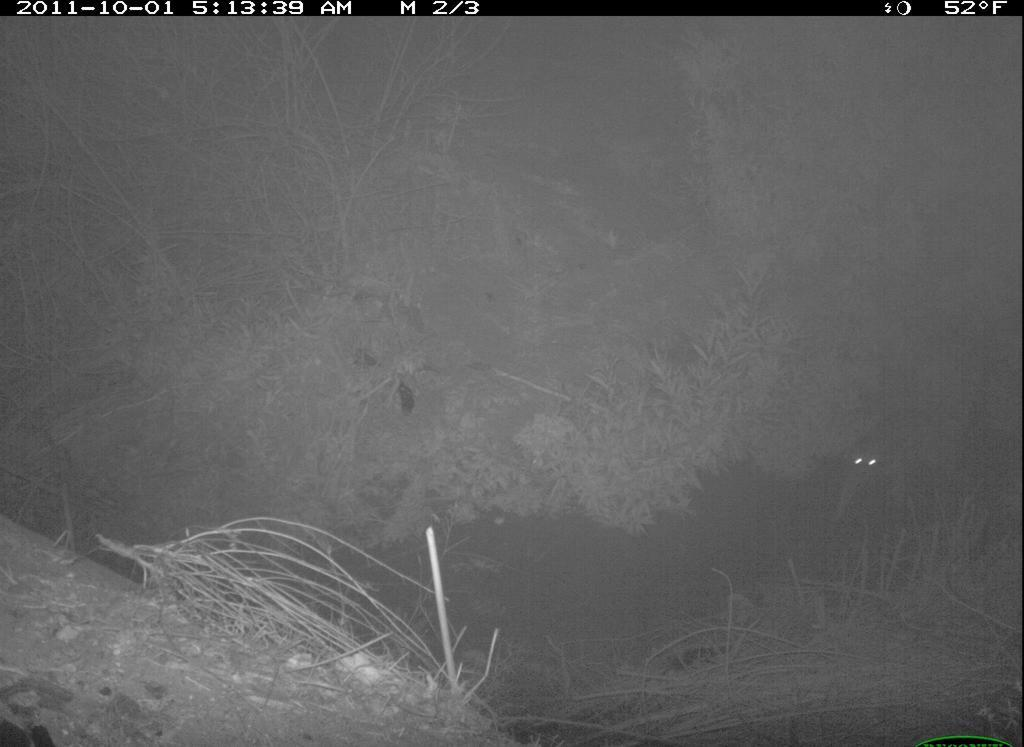raccoon: (813, 399, 971, 536)
